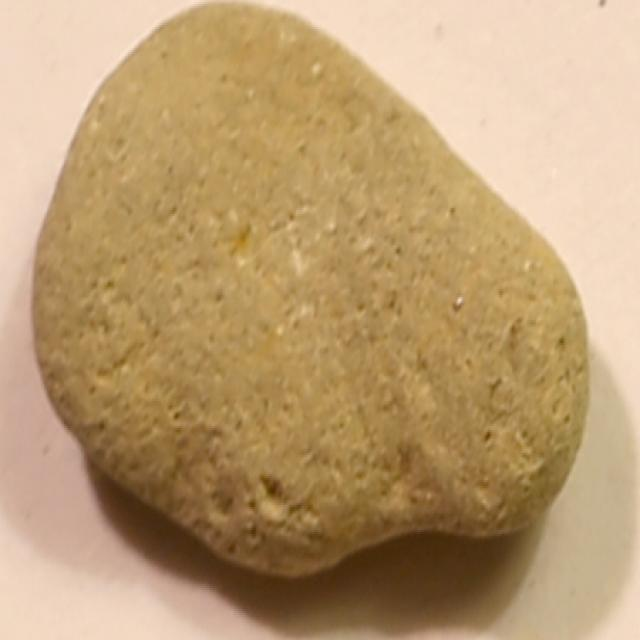stone: (32, 0, 595, 590)
